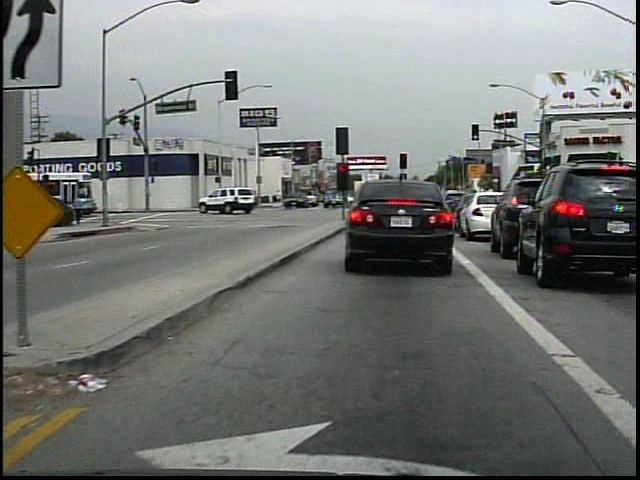person: (72, 190, 92, 228), (274, 187, 285, 209)
